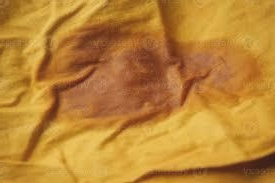oil: (37, 27, 250, 120)
